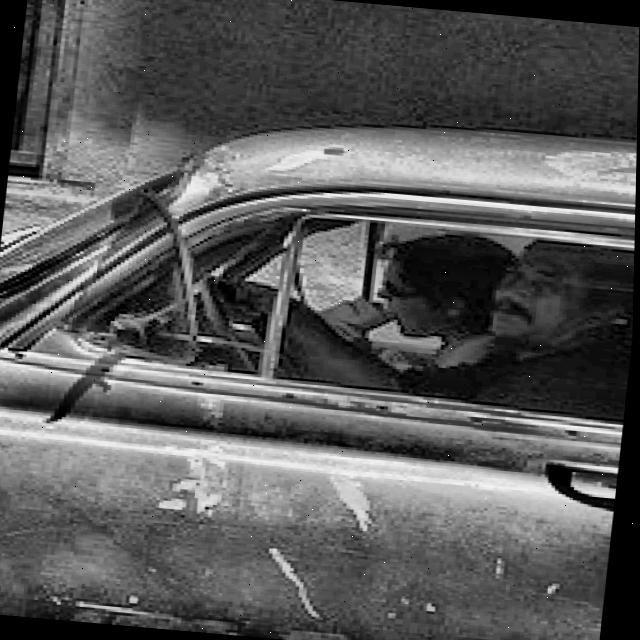light_vehicle: (0, 83, 639, 640)
